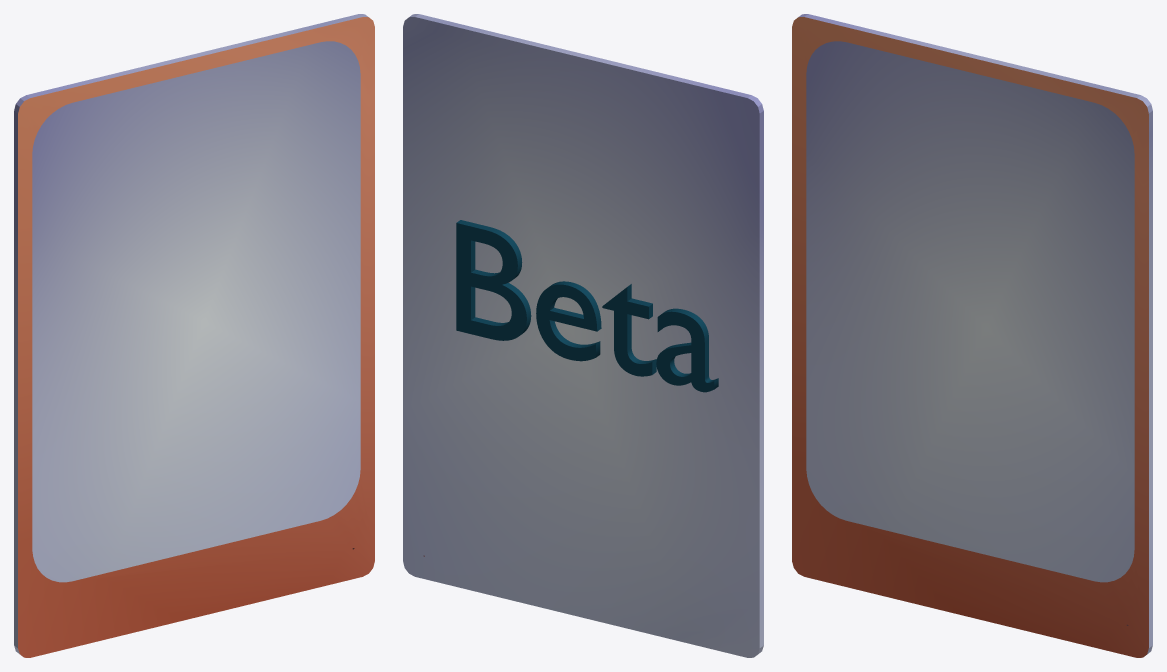
Rendered from Card3D-transformed.glb.
3 renders of one model, left to right at view 1: azimuth 30°, elevation 25°; view 2: azimuth 150°, elevation 25°; view 3: azimuth 330°, elevation 25°, orthographic.
Visible parts, largest first — view 1: Cube.001; view 2: Cube.001, Text; view 3: Cube.001.
Boxes of the visible parts, x1=… form: Cube.001: x1=14, y1=14, x2=374, y2=657; Cube.001: x1=403, y1=14, x2=763, y2=657; Text: x1=456, y1=220, x2=718, y2=392; Cube.001: x1=792, y1=14, x2=1152, y2=657.
Bounding box in the file's own units: 2 × 3 × 0.0846.
Materials: 1 (1 with a texture image).
